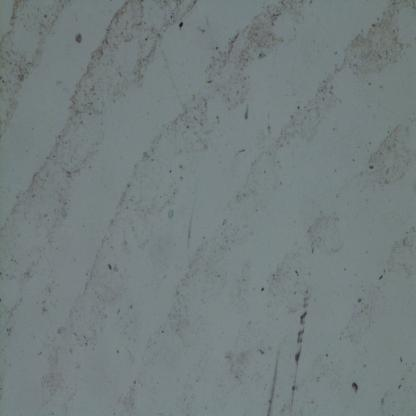Background material: (69, 101, 218, 333), (0, 112, 105, 278), (292, 0, 416, 137), (72, 0, 195, 116), (204, 0, 294, 112), (0, 1, 68, 134), (169, 216, 241, 330), (344, 226, 416, 338), (267, 214, 345, 310), (265, 285, 312, 416), (234, 124, 298, 204), (366, 123, 416, 184), (45, 322, 70, 399), (225, 340, 254, 384), (390, 356, 408, 397), (39, 298, 53, 322), (74, 30, 84, 48), (350, 380, 361, 396), (243, 106, 250, 121)
